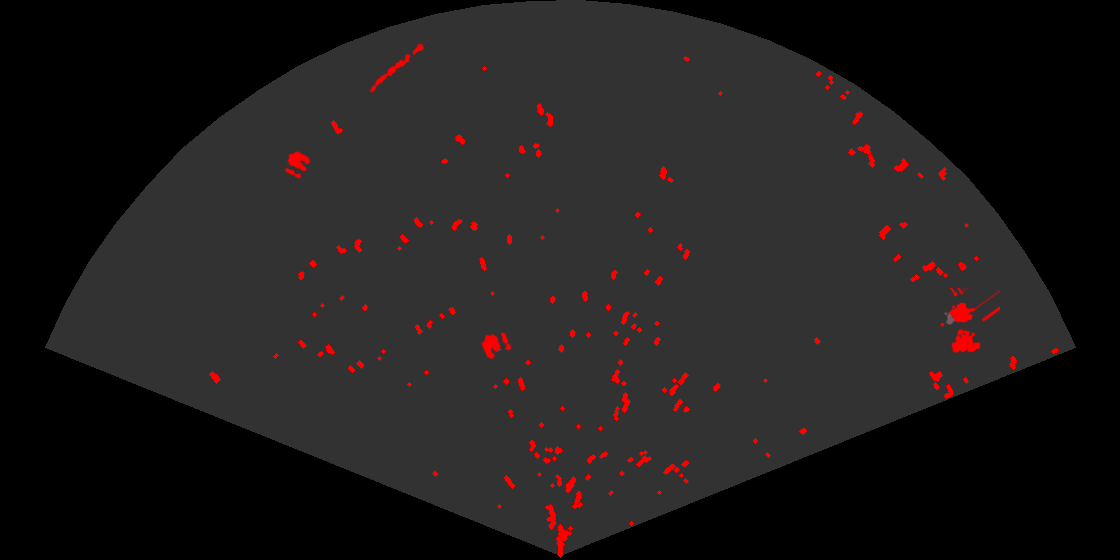ball: (480, 331, 513, 361), (283, 150, 312, 180)
cage: (939, 288, 1000, 355)
chain: (367, 38, 429, 95)
